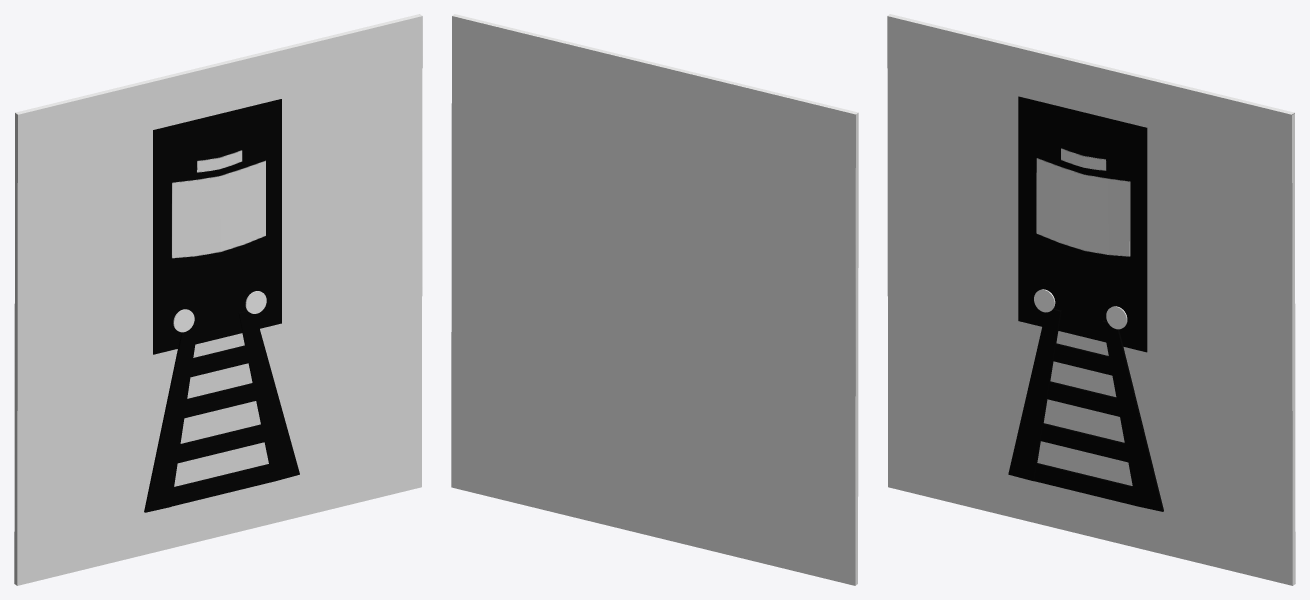
File: train.fbx
The picture shows the model from 3 angles, left to right: view 1: azimuth 30°, elevation 25°; view 2: azimuth 150°, elevation 25°; view 3: azimuth 330°, elevation 25°; orthographic projection.
Visible parts, largest first — view 1: Plane; view 2: Plane; view 3: Plane.
Boxes of the visible parts, bbox=[...] form: Plane: bbox=[14, 14, 422, 585]; Plane: bbox=[451, 14, 858, 585]; Plane: bbox=[887, 14, 1295, 585].
Bounding box in the file's own units: 180 × 200 × 6.71.
